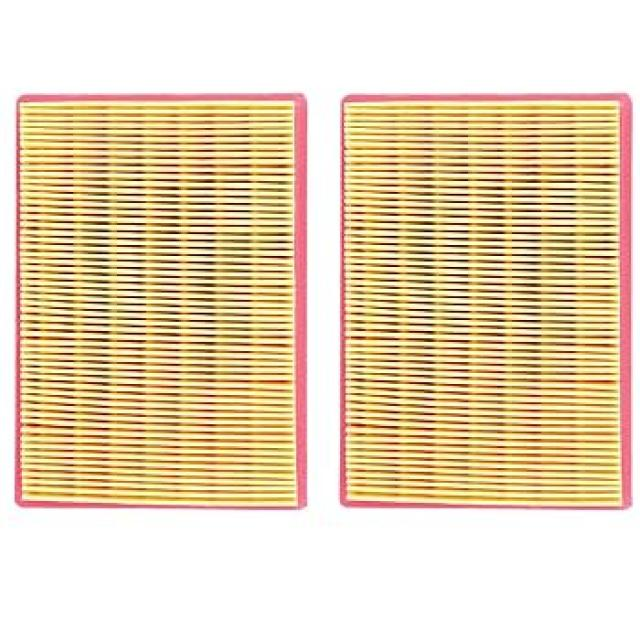air_filter: (10, 88, 314, 514), (340, 90, 639, 514)
